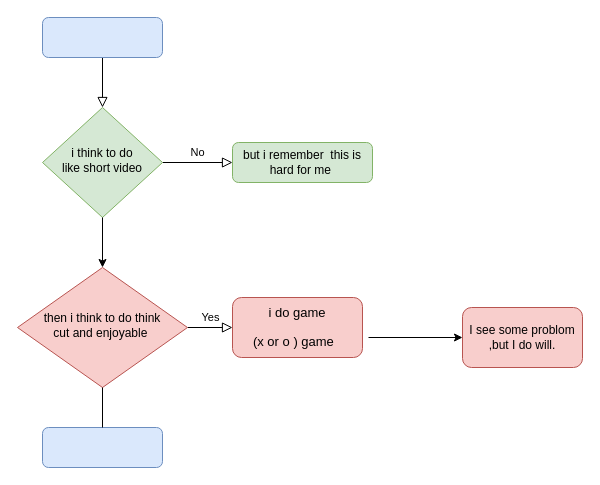
Image size: 600x485. Some labels were removed from this diagram. The centre of each missing label's shape, as x and y in pixels:
Final Project: (102,37)
the final I do my best: (102,447)
